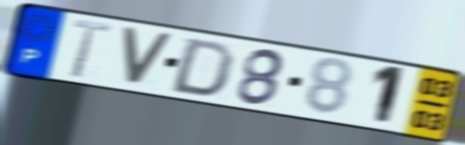1: (368, 64, 406, 130)
8: (301, 56, 359, 119), (235, 47, 285, 108)
D: (167, 36, 238, 99)
T: (68, 16, 113, 80)
V: (120, 24, 177, 89)
